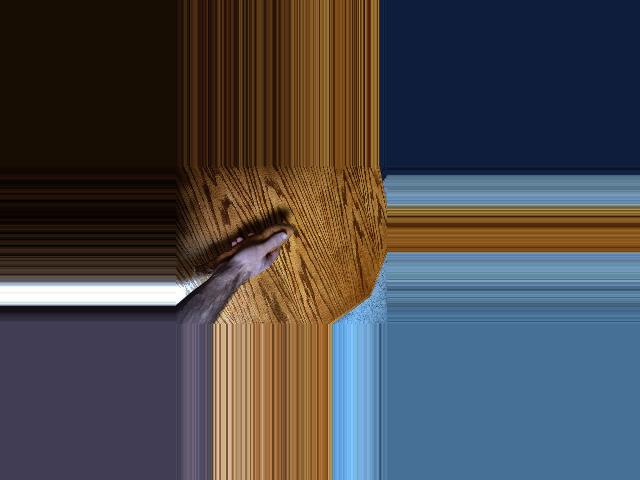sweet_potato: (188, 220, 294, 279)
